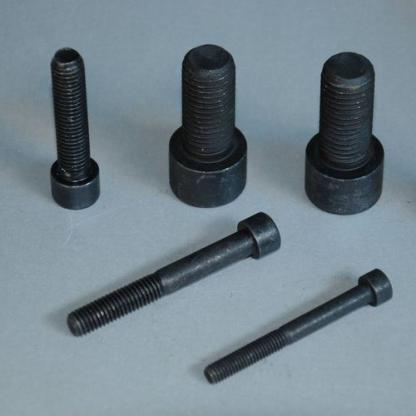FOD: (60, 211, 282, 340), (202, 267, 394, 385), (165, 42, 253, 209), (304, 48, 390, 216), (46, 46, 104, 214)
